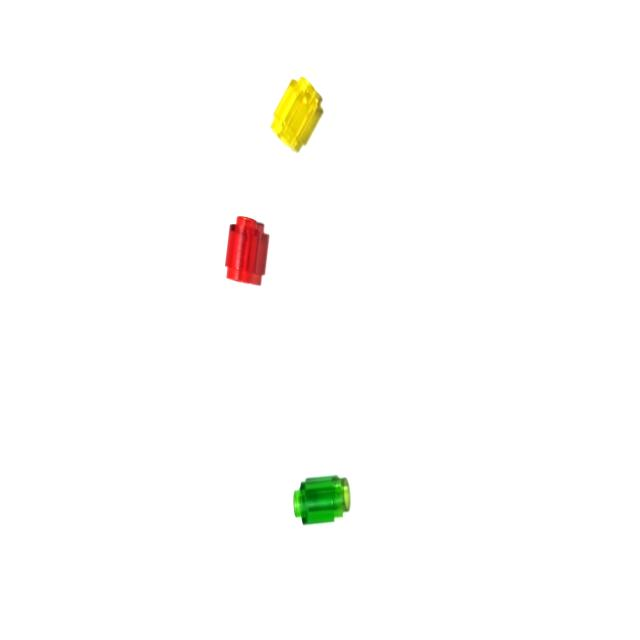Green_Small: (290, 473, 354, 531)
Orange_Small: (223, 213, 272, 289)
Yellow_Small: (267, 75, 328, 156)
